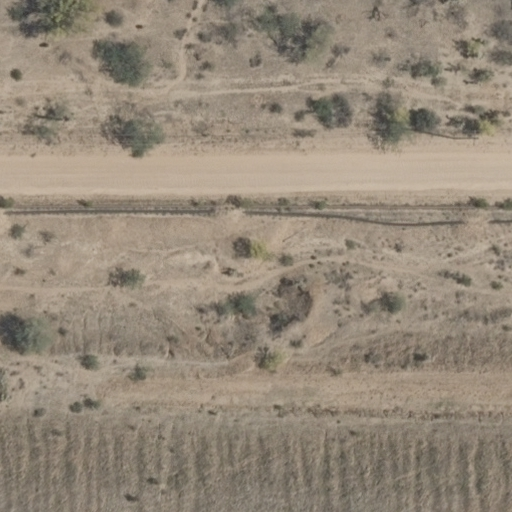DT: (448, 123, 483, 149)
